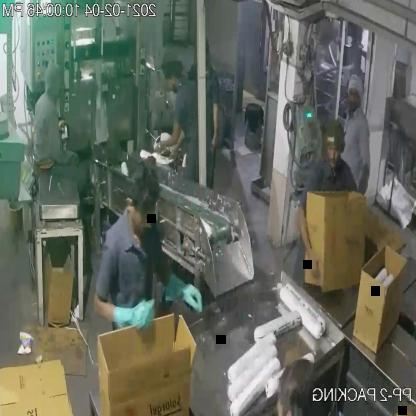glove: (86, 280, 160, 340), (164, 263, 206, 318)
no_glove: (295, 184, 323, 284), (156, 113, 186, 156), (205, 89, 224, 154)
